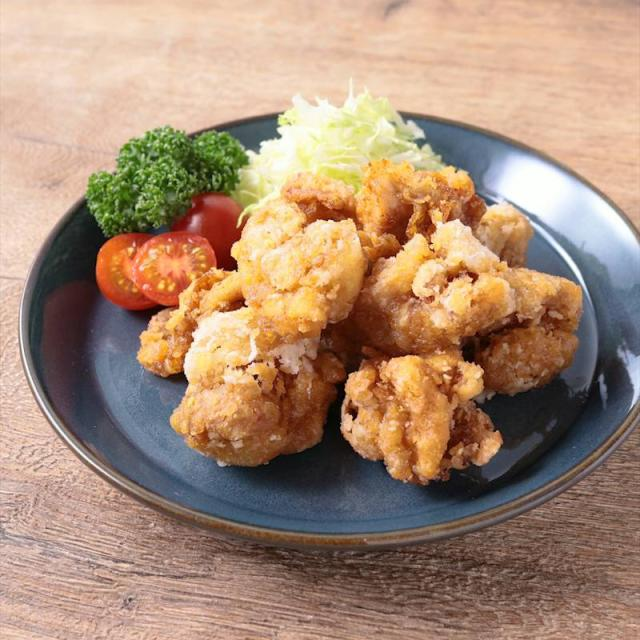Frango: (138, 159, 584, 491)
